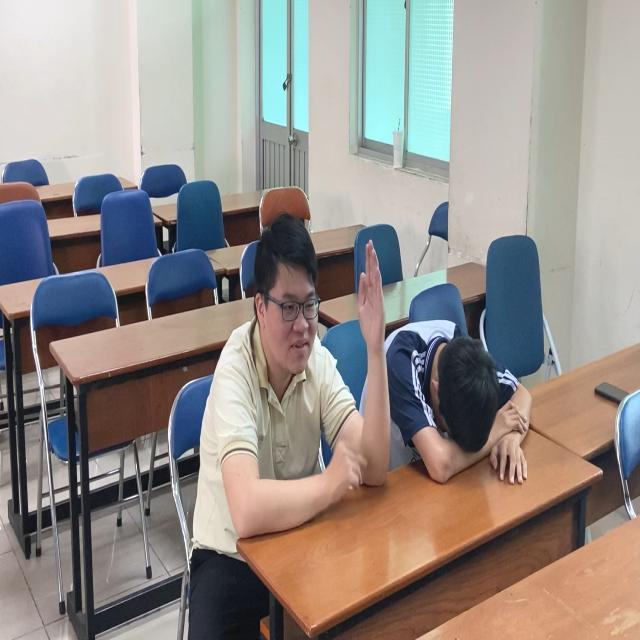raise_hand: (213, 210, 392, 551)
sleep: (360, 320, 539, 491)
